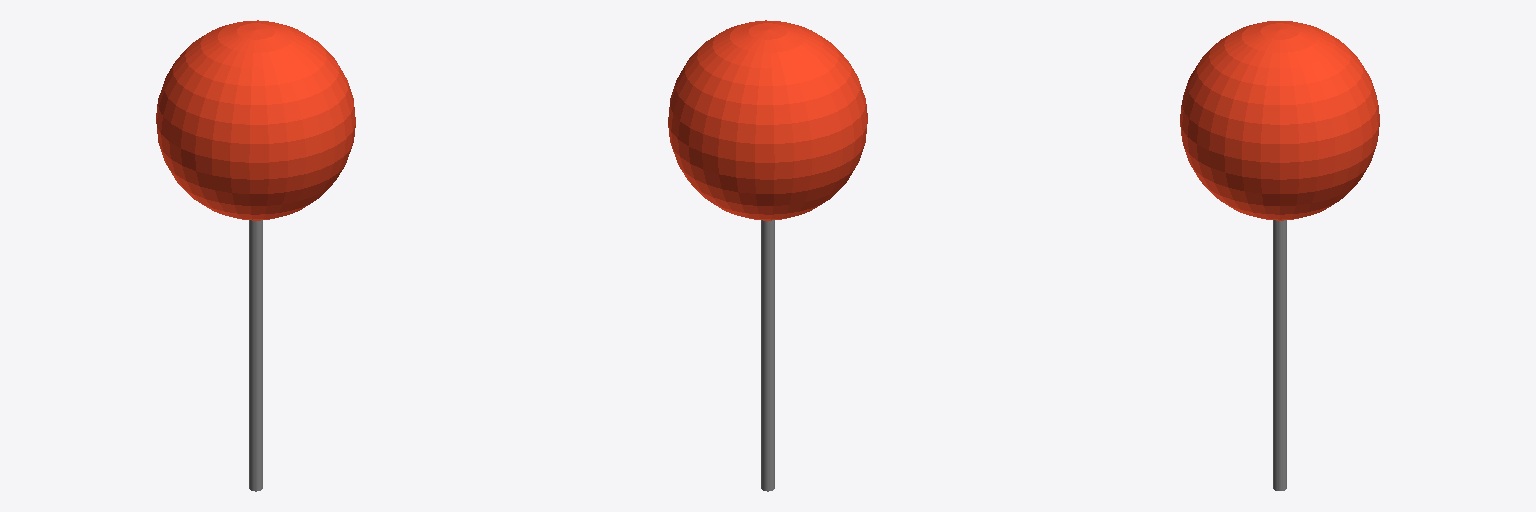
The robot description file, URDF, robot "box":
<?xml version="1.0" ?>
<robot name="box">

  <material name="panda_white">
    <color rgba="1. 0.87 0.68 1."/>
  </material>

  <material name="metal">
    <color rgba="0.6 0.6 0.6 1."/>
  </material>

  <material name="orangered">
    <color rgba="1 0.34 0.2 0.5"/>
  </material>

  <link name="link1">
    <inertial>
      <origin rpy="0 0 0" xyz="0 0 0"/>
       <mass value=".0"/>
       <inertia ixx="0" ixy="0" ixz="0" iyy="0" iyz="0" izz="0"/>
    </inertial>

    <visual>
      <origin rpy="0 0 0.78539816339" xyz="0 0 0.3"/>
      <geometry>
        <box size="0.10 0.10 0.005"/>
      </geometry>
      <material name="panda_white"/>
    </visual>
  </link>

  <link name="link2">
    <inertial>
      <origin rpy="0 0 0" xyz="0 0 0"/>
       <mass value=".0"/>
       <inertia ixx="0" ixy="0" ixz="0" iyy="0" iyz="0" izz="0"/>
    </inertial>

    <visual>
      <origin rpy="0 0 0" xyz="0 0 0.15"/>
      <geometry>
        <cylinder radius="0.005" length="0.3"/>
      </geometry>
      <material name="metal"/>
    </visual>
  </link>

  <link name="link3">
    <inertial>
      <origin rpy="0 0 0" xyz="0 0 0"/>
       <mass value=".0"/>
       <inertia ixx="0" ixy="0" ixz="0" iyy="0" iyz="0" izz="0"/>
    </inertial>

    <visual>
      <origin rpy="0 0 0" xyz="0 0 0.3"/>
      <geometry>
        <sphere radius="0.074"/>
      </geometry>
      <material name="orangered"/>
    </visual>

  </link>

  <joint name="fixed_joint" type="fixed">
    <parent link="link1"/>
    <child link="link2"/>
    <origin xyz="0 0 0" rpy="0 0 0"/>
  </joint>

  <joint name="fixed_joint2" type="fixed">
    <parent link="link1"/>
    <child link="link3"/>
    <origin xyz="0 0 0" rpy="0 0 0"/>
  </joint>

</robot>

--- What the picture shows (computed from the rendered views, not written in the file) ---
3 views of the same robot in one strip: view 1: azimuth 30°, elevation 25°; view 2: azimuth 150°, elevation 25°; view 3: azimuth 270°, elevation 25° (orthographic).
Model box with 3 links and 2 joints (2 fixed), rooted at link1, posed every joint at zero.
Visible links, largest first — view 1: link3, link2; view 2: link3, link2; view 3: link3, link2.
Link boxes in pixels (x1,y1,x2,y2): link3: [156, 20, 355, 220]; link2: [249, 220, 262, 491]; link3: [668, 20, 867, 220]; link2: [761, 220, 774, 491]; link3: [1180, 21, 1379, 220]; link2: [1273, 220, 1286, 490].
Bounding box of the posed robot: 0.148 × 0.148 × 0.374 m (x, y, z).
Geometry: primitives only (box / cylinder / sphere), no mesh files.